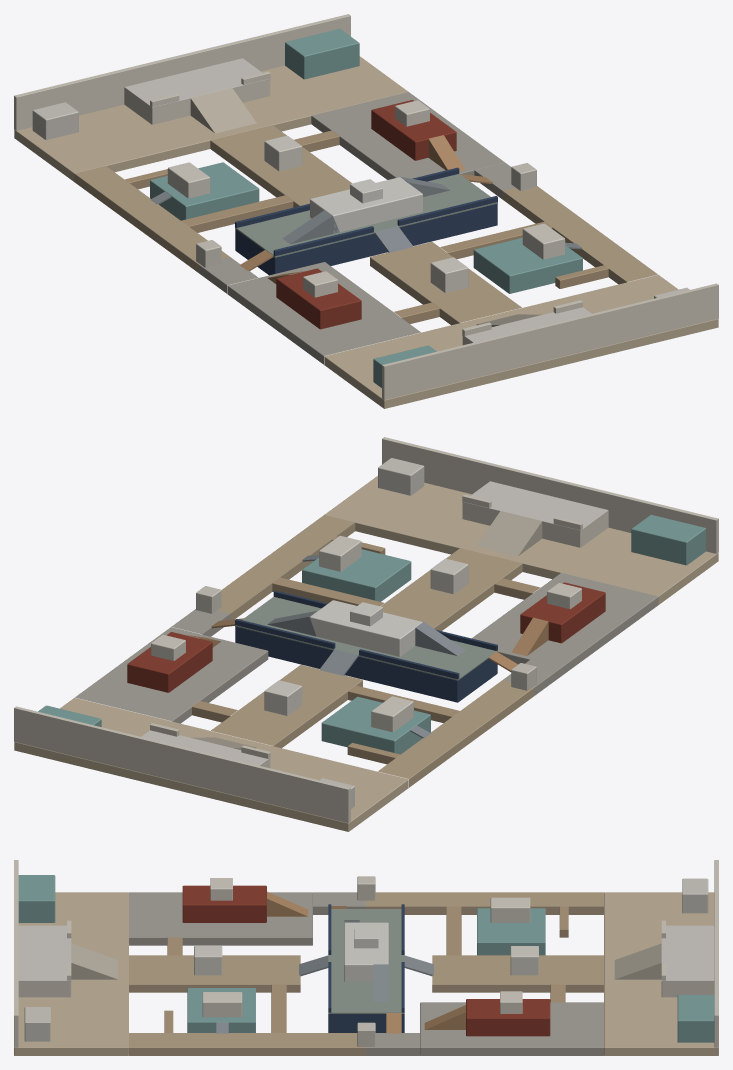
The model's file is halyard_turf_level.glb.
3 views of the same model, one above another, from view 1: azimuth 30°, elevation 25°; view 2: azimuth 150°, elevation 25°; view 3: azimuth 270°, elevation 25° (orthographic). The views are drawn at different scales.
Parts seen in each view (by area): view 1: PaintableStage; view 2: PaintableStage; view 3: PaintableStage.
Part boxes in pixels (left/top/right/bottom): PaintableStage: left=14, top=14, right=718, bottom=408; PaintableStage: left=14, top=437, right=718, bottom=831; PaintableStage: left=14, top=860, right=718, bottom=1055.
Bounding box in the file's own units: 48 × 7.89 × 92.
